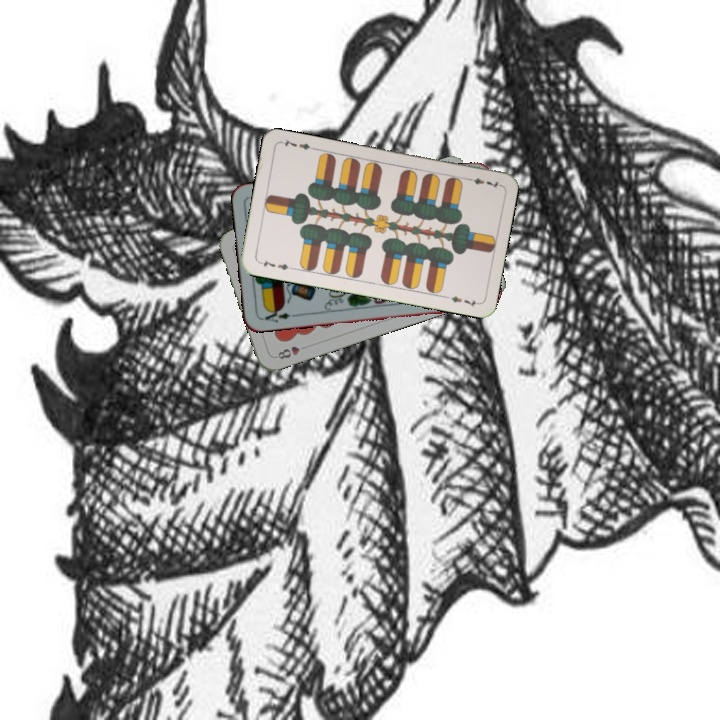E7: (255, 255, 295, 273), (462, 173, 502, 191)
EA: (258, 305, 293, 325)
H8: (271, 342, 302, 362)
